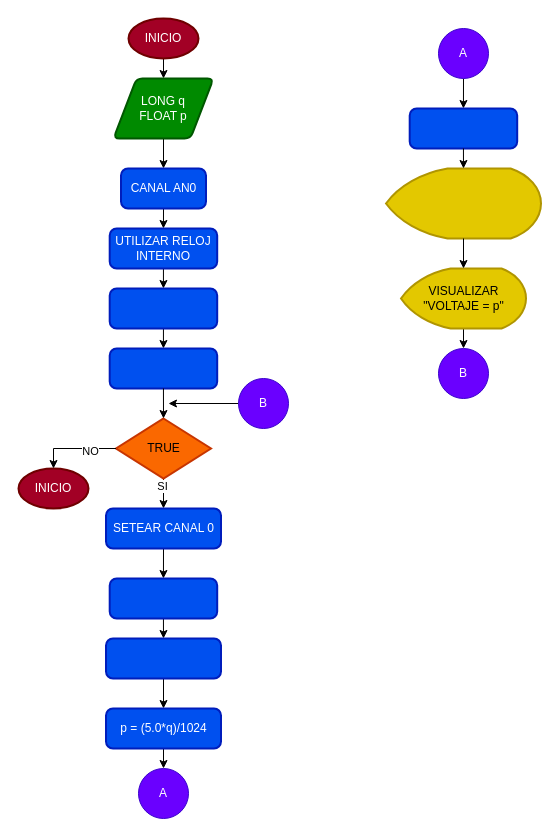
The diagram is 559 pixels wide and 836 high, and some of its shapes have lost their labels. Each missing label, with the centre of its shape:
CURSOR EN LA POSICIÓN (1,1): (x=463, y=128)
DELAY 20 US: (x=163, y=598)
INICIALIZAR LCD: (x=163, y=308)
LIMPIAR LCD: (x=163, y=368)
q = LEER ADC: (x=163, y=658)
VISUALIZAR "ADC = q" SALTAR AL SIGUIETE LINEA: (x=463, y=203)
